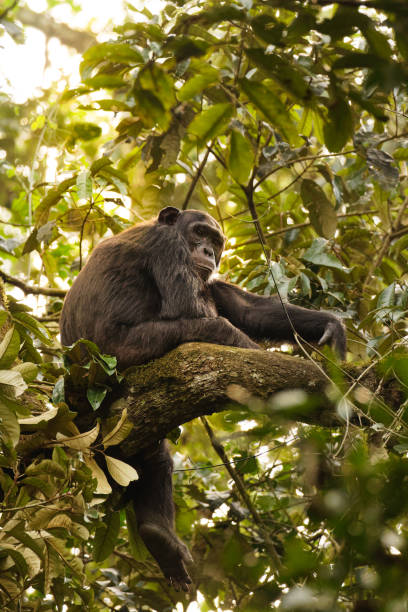chimpanzee: (157, 194, 227, 292)
